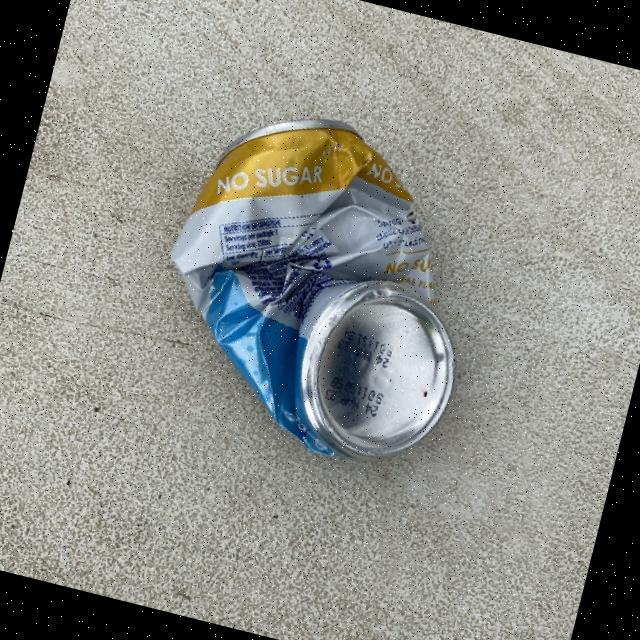metal: (270, 259, 473, 476)
